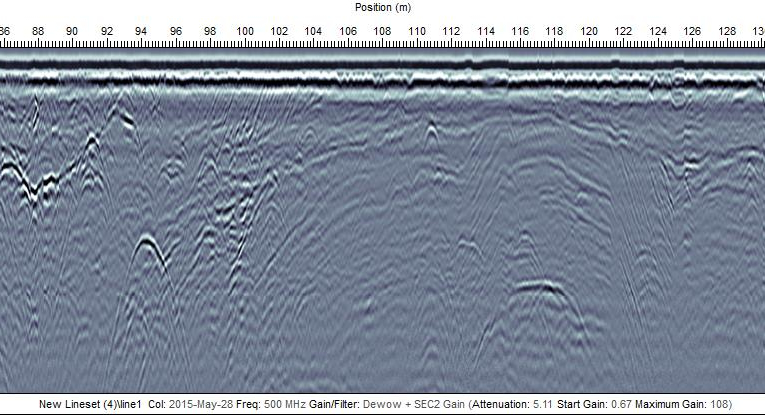hyperbola: (123, 233, 170, 276)
